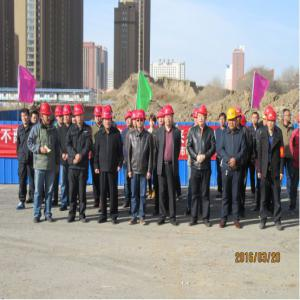none: (21, 108, 30, 126), (283, 109, 292, 125), (149, 115, 157, 130), (252, 111, 260, 126), (31, 112, 40, 125), (220, 113, 228, 127)
red: (41, 103, 53, 127), (74, 104, 86, 125), (102, 108, 113, 130), (197, 105, 208, 127), (164, 106, 174, 127), (267, 112, 278, 131), (63, 105, 73, 125), (55, 105, 64, 125), (137, 110, 146, 129), (94, 106, 102, 124), (235, 106, 242, 126), (125, 112, 133, 129), (158, 110, 165, 128), (193, 109, 199, 127), (133, 111, 138, 129)
yellow: (227, 108, 238, 131)
